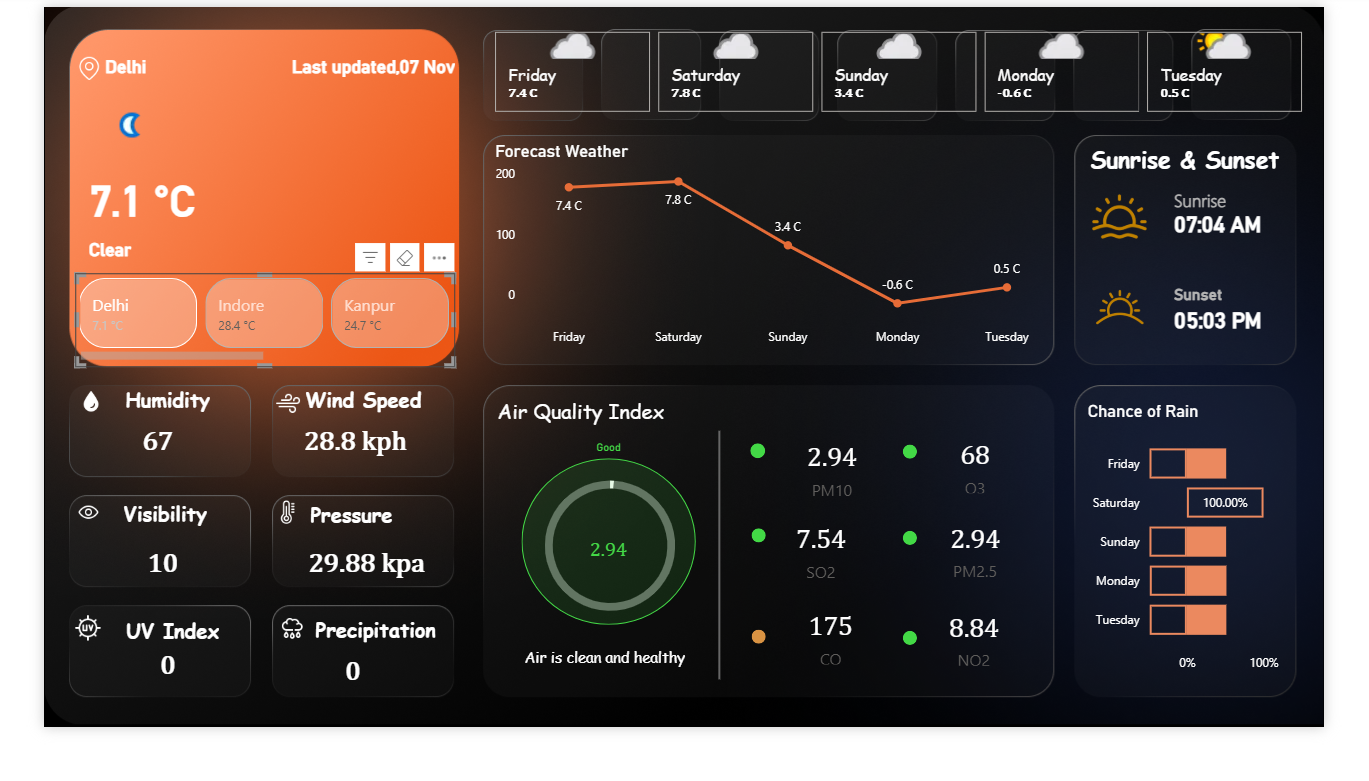

The dashboard page shown, as its layout file describes it:
{"tool":"powerbi","page":{"name":"Page 1","canvas":[1280,720],"ordinal":0},"visuals":[{"type":"advancedSlicerVisual","fields":{"Values":["location.location.name"],"Label":["_measures.curr_temp_c"]},"box":[31.7,266.7,380,93.3],"z":0},{"type":"shape","box":[45,145,170,97.5],"z":1000},{"type":"shape","box":[246.7,31.7,165,58.3],"z":2000},{"type":"shape","box":[61.7,31.7,126.7,58.3],"z":3000},{"type":"image","box":[0,45,90,33.3],"z":4000},{"type":"shape","box":[45,217.5,190,50],"z":5000},{"type":"cardVisual","fields":{"Data":["Min(current.current.condition.icon)"]},"box":[31.4,61.4,108.6,97.1],"z":6000},{"type":"image","box":[11.4,488.6,65.7,32.9],"z":7000},{"type":"shape","box":[58.6,377.1,130,32.9],"z":8000},{"type":"shape","box":[64.3,488.6,130,32.9],"z":9000},{"type":"shape","box":[64.3,608.6,130,32.9],"z":10000},{"type":"shape","box":[247.1,607.1,144.3,32.9],"z":11000},{"type":"shape","box":[247.1,488.6,130,32.9],"z":12000},{"type":"shape","box":[247.1,377.1,130,32.9],"z":13000},{"type":"image","box":[15.7,378.6,61.4,31.4],"z":14000},{"type":"image","box":[8.6,602.9,70,37.1],"z":15000},{"type":"image","box":[214.3,378.6,60,35.7],"z":16000},{"type":"image","box":[214.3,488.6,60,32.9],"z":17000},{"type":"image","box":[215.7,604.3,64.3,35.7],"z":18000},{"type":"card","fields":{"Values":["Sum(current.current.humidity)"]},"box":[38.6,410,150,48.6],"z":19000},{"type":"card","fields":{"Values":["Sum(current.current.precip_in)"]},"box":[234.3,640,150,48.6],"z":20000},{"type":"card","fields":{"Values":["Sum(current.current.vis_km)"]},"box":[44.3,531.4,150,48.6],"z":21000},{"type":"card","fields":{"Values":["Sum(current.current.uv)"]},"box":[48.6,641.4,150,32.9],"z":22000},{"type":"card","fields":{"Values":["_measures.pressure"]},"box":[247.1,531.4,150,48.6],"z":23000},{"type":"advancedSlicerVisual","fields":{"Values":["forecast by day.day name"],"Label":["_measures.ForTEMP_C"]},"box":[445.7,20,820,90],"z":24000},{"type":"lineChart","title":"Forecast Weather ","fields":{"Y":["Sum(forecast by day.forecast.forecastday.day.avgtemp_c)"],"Category":["forecast by day.day name"]},"box":[445.7,134.3,565.7,214.3],"z":25000},{"type":"shape","box":[1040,135.7,201.4,41.4],"z":26000},{"type":"shape","box":[1130,168.6,111.4,48.6],"z":27000},{"type":"shape","box":[1130,264.3,111.4,48.6],"z":28000},{"type":"shape","box":[1130,192.9,111.4,48.6],"z":29000},{"type":"shape","box":[1130,288.6,111.4,48.6],"z":30000},{"type":"image","box":[1035.7,264.3,78.6,72.9],"z":31000},{"type":"image","box":[1035.7,177.1,78.6,64.3],"z":32000},{"type":"hundredPercentStackedBarChart","title":"Chance of Rain ","fields":{"Y":["Sum(forecast by day.forecast.forecastday.day.daily_chance_of_rain)","_measures.LEFT VALUE RAIN"],"Category":["forecast by day.day name"]},"box":[1039,394,201,280],"z":33000},{"type":"shape","box":[445.7,390,181.4,40],"z":34000},{"type":"card","fields":{"Values":["_measures.wind_speed"]},"box":[236.7,410,150,48.3],"z":35000},{"type":"card","fields":{"Values":["Sum(current.current.air_quality.pm2_5)"]},"box":[873.3,505,115,75],"z":37000},{"type":"card","fields":{"Values":["Sum(current.current.air_quality.o3)"]},"box":[873.3,426.7,115,65],"z":38000},{"type":"card","fields":{"Values":["Sum(current.current.air_quality.so2)"]},"box":[721.7,506.7,111.7,73.3],"z":39000},{"type":"card","fields":{"Values":["Sum(current.current.air_quality.no2)"]},"box":[872.5,598.8,115,65],"z":40000},{"type":"card","fields":{"Values":["Sum(current.current.air_quality.co)"]},"box":[728.8,597.5,116.2,65],"z":41000},{"type":"card","fields":{"Values":["Sum(current.current.air_quality.pm10)"]},"box":[731.2,426.2,113.8,68.8],"z":42000},{"type":"shape","box":[706.7,436.7,15,15],"z":43000},{"type":"shape","box":[707.1,622.9,14.3,14.3],"z":43002},{"type":"shape","box":[707.1,521.4,14.3,14.3],"z":43003},{"type":"shape","box":[858.6,524.3,14.3,14.3],"z":43004},{"type":"shape","box":[858.6,437.1,14.3,14.3],"z":43005},{"type":"shape","box":[858.6,624.3,14.3,14.3],"z":43006},{"type":"shape","box":[627.1,424.3,95.7,248.6],"z":43007},{"type":"card","fields":{"Values":["Sum(current.current.air_quality.pm10)"]},"box":[507.1,508.6,114.3,68.6],"z":43009},{"type":"donutChart","fields":{"Y":["Sum(current.current.air_quality.pm10)","MEASURE.left value PM10"]},"box":[455.7,452.9,220,172.9],"z":43010},{"type":"shape","box":[477.1,434.3,174.3,184.3],"z":43011},{"type":"shape","box":[470,640,181.4,40],"z":43012}]}

Visuals, with their boxes in screenshot pixels (x1, y1, x2, y2), scaled from the page's 1280x720 canvas onto the 1369x781 screenshot:
advancedSlicerVisual - location.location.name x _measures.curr_temp_c: box(34, 289, 440, 390)
shape: box(48, 157, 230, 263)
shape: box(264, 34, 440, 98)
shape: box(66, 34, 201, 98)
image: box(0, 49, 96, 85)
shape: box(48, 236, 251, 290)
cardVisual - Min(current.current.condition.icon): box(34, 67, 150, 172)
image: box(12, 530, 82, 566)
shape: box(63, 409, 202, 445)
shape: box(69, 530, 208, 566)
shape: box(69, 660, 208, 696)
shape: box(264, 659, 419, 694)
shape: box(264, 530, 403, 566)
shape: box(264, 409, 403, 445)
image: box(17, 411, 82, 445)
image: box(9, 654, 84, 694)
image: box(229, 411, 293, 449)
image: box(229, 530, 293, 566)
image: box(231, 655, 299, 694)
card - Sum(current.current.humidity): box(41, 445, 202, 497)
card - Sum(current.current.precip_in): box(251, 694, 411, 747)
card - Sum(current.current.vis_km): box(47, 576, 208, 629)
card - Sum(current.current.uv): box(52, 696, 212, 731)
card - _measures.pressure: box(264, 576, 425, 629)
advancedSlicerVisual - forecast by day.day name x _measures.ForTEMP_C: box(477, 22, 1354, 119)
"Forecast Weather " lineChart: box(477, 146, 1082, 378)
shape: box(1112, 147, 1328, 192)
shape: box(1209, 183, 1328, 236)
shape: box(1209, 287, 1328, 339)
shape: box(1209, 209, 1328, 262)
shape: box(1209, 313, 1328, 366)
image: box(1108, 287, 1192, 366)
image: box(1108, 192, 1192, 262)
"Chance of Rain " hundredPercentStackedBarChart: box(1111, 427, 1326, 731)
shape: box(477, 423, 671, 466)
card - _measures.wind_speed: box(253, 445, 414, 497)
card - Sum(current.current.air_quality.pm2_5): box(934, 548, 1057, 629)
card - Sum(current.current.air_quality.o3): box(934, 463, 1057, 533)
card - Sum(current.current.air_quality.so2): box(772, 550, 891, 629)
card - Sum(current.current.air_quality.no2): box(933, 650, 1056, 720)
card - Sum(current.current.air_quality.co): box(779, 648, 904, 719)
card - Sum(current.current.air_quality.pm10): box(782, 462, 904, 537)
shape: box(756, 474, 772, 490)
shape: box(756, 676, 772, 691)
shape: box(756, 566, 772, 581)
shape: box(918, 569, 934, 584)
shape: box(918, 474, 934, 490)
shape: box(918, 677, 934, 693)
shape: box(671, 460, 773, 730)
card - Sum(current.current.air_quality.pm10): box(542, 552, 665, 626)
donutChart - Sum(current.current.air_quality.pm10) x MEASURE.left value PM10: box(487, 491, 723, 679)
shape: box(510, 471, 697, 671)
shape: box(503, 694, 697, 738)
